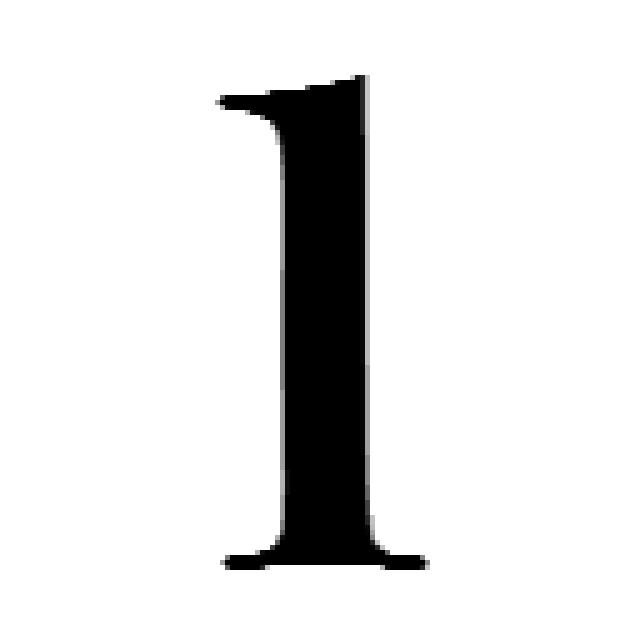L: (212, 62, 438, 566)
